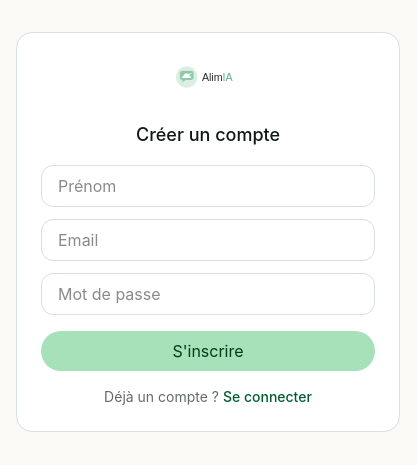
affiche l'erreur d'email déjà utilisé
In the field with placeholder "Prénom": (208, 186) x1=41 y1=165 x2=375 y2=207, type "Camille"
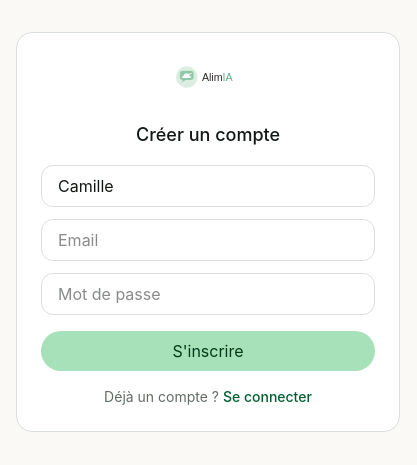
In the field with placeholder "Email": (208, 240) x1=41 y1=219 x2=375 y2=261, type "doublon@example.com"
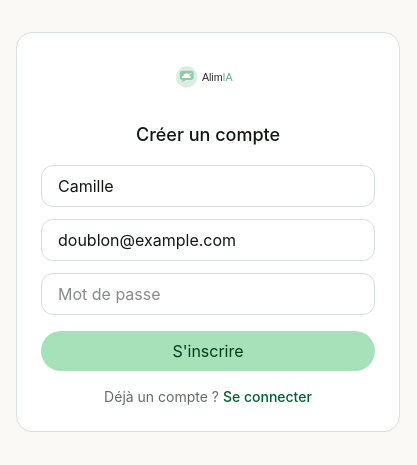
In the password field with placeholder "Mot de passe": (208, 294) x1=41 y1=273 x2=375 y2=315, type "MotDePasseSolide123!"
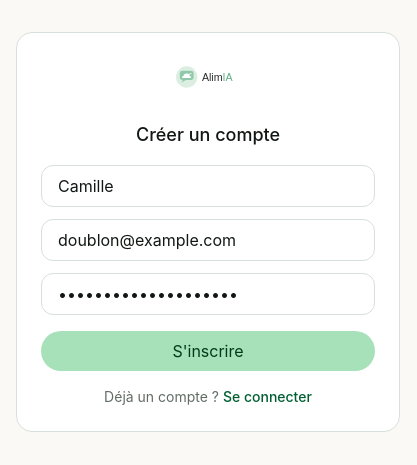
Click the button "S'inscrire": (208, 351) x1=41 y1=331 x2=375 y2=371
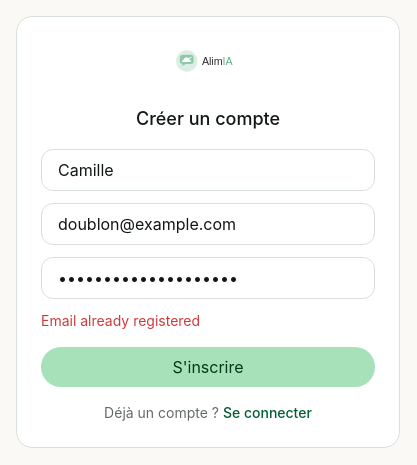
Expected: the text "Email already registered" is shown, x1=41 y1=312 x2=200 y2=329
